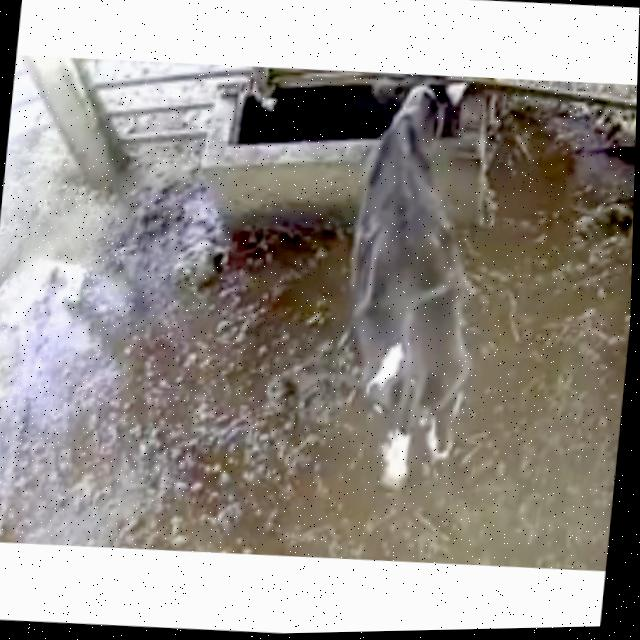drink: (325, 67, 491, 167)
